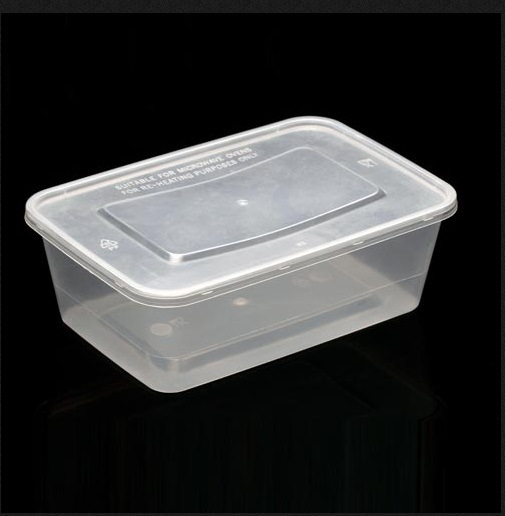plastic: (22, 114, 460, 393)
